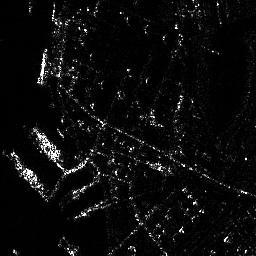ship: (11, 150, 44, 191), (31, 127, 62, 162), (37, 47, 50, 84)
